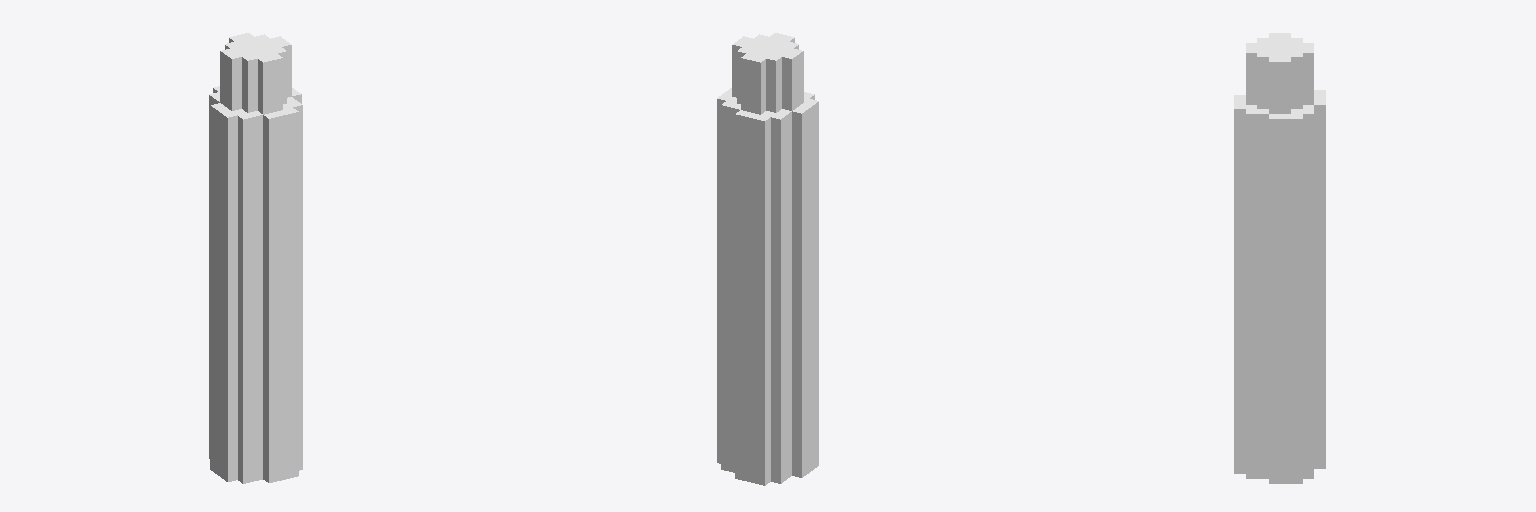
Rendered from Nerf.obj.
The picture shows the model from 3 angles: view 1: azimuth 30°, elevation 25°; view 2: azimuth 150°, elevation 25°; view 3: azimuth 270°, elevation 25°; orthographic projection.
Parts seen in each view (by area): view 1: object 1; view 2: object 1; view 3: object 1.
Boxes of the visible parts, x1=… form: object 1: x1=209, y1=33, x2=302, y2=483; object 1: x1=717, y1=33, x2=818, y2=485; object 1: x1=1234, y1=33, x2=1325, y2=483.
Bounding box in the file's own units: 0.8 × 4 × 0.8.